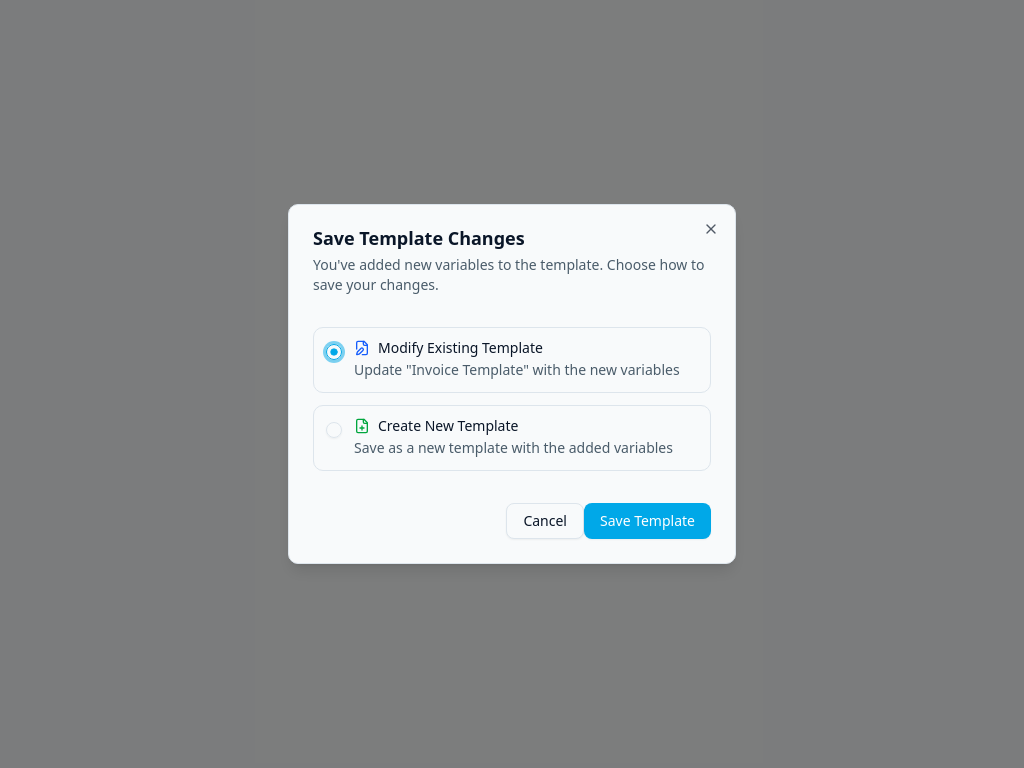
Test case: SaveTemplateDialog › enables save button when create is selected and name is provided
The width and height of the screenshot is (1024, 768).
Click the radio button named "create new template" next to "Create New Template". click: (334, 430)
box: top-left (326, 422), bottom-right (342, 438)
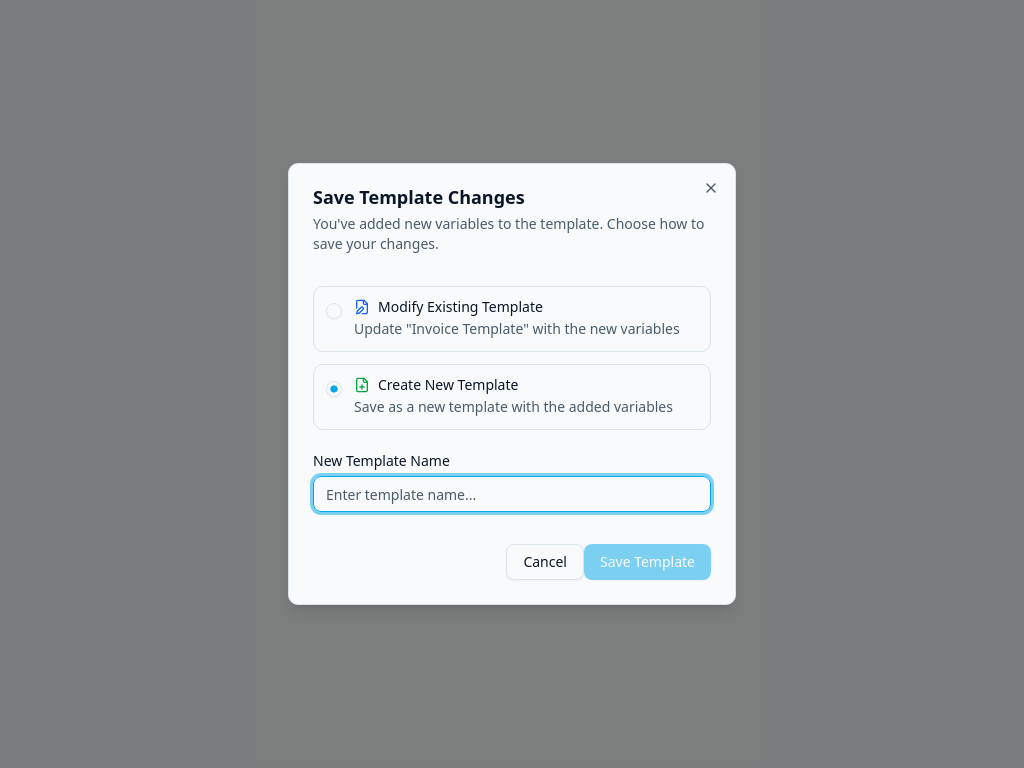
Type "My New Template" into the field labelled "New Template Name". click: (512, 494)
box: top-left (313, 476), bottom-right (711, 512)
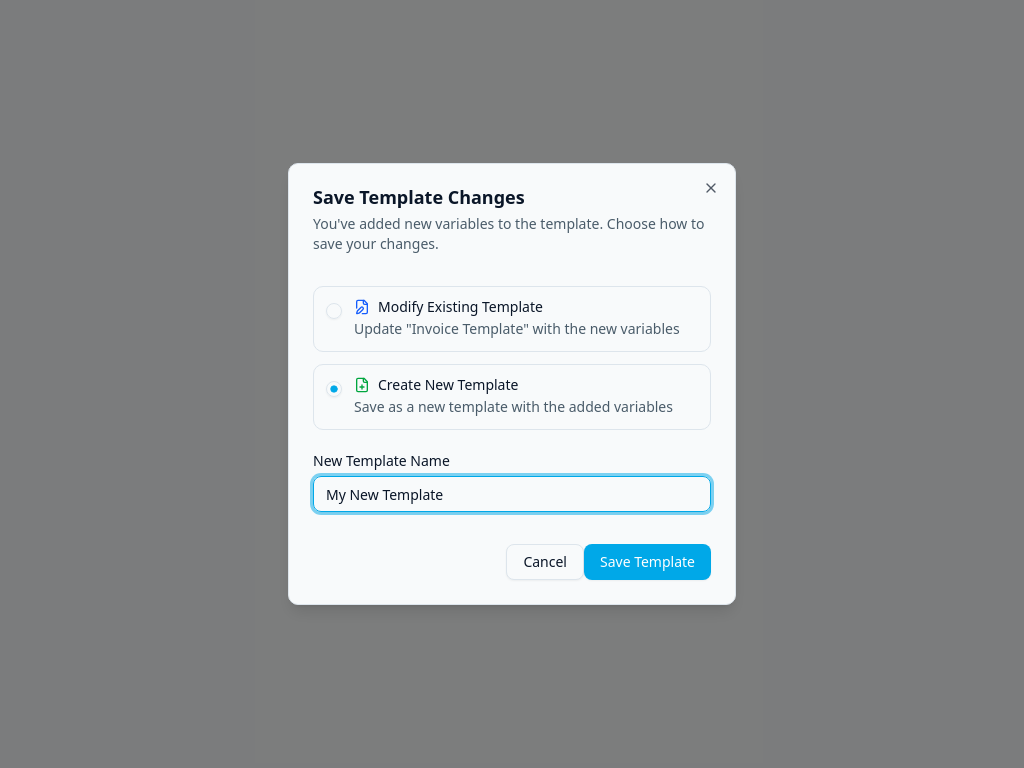
Result: the button "Save Template" is enabled at top-left (584, 544), bottom-right (711, 580)
